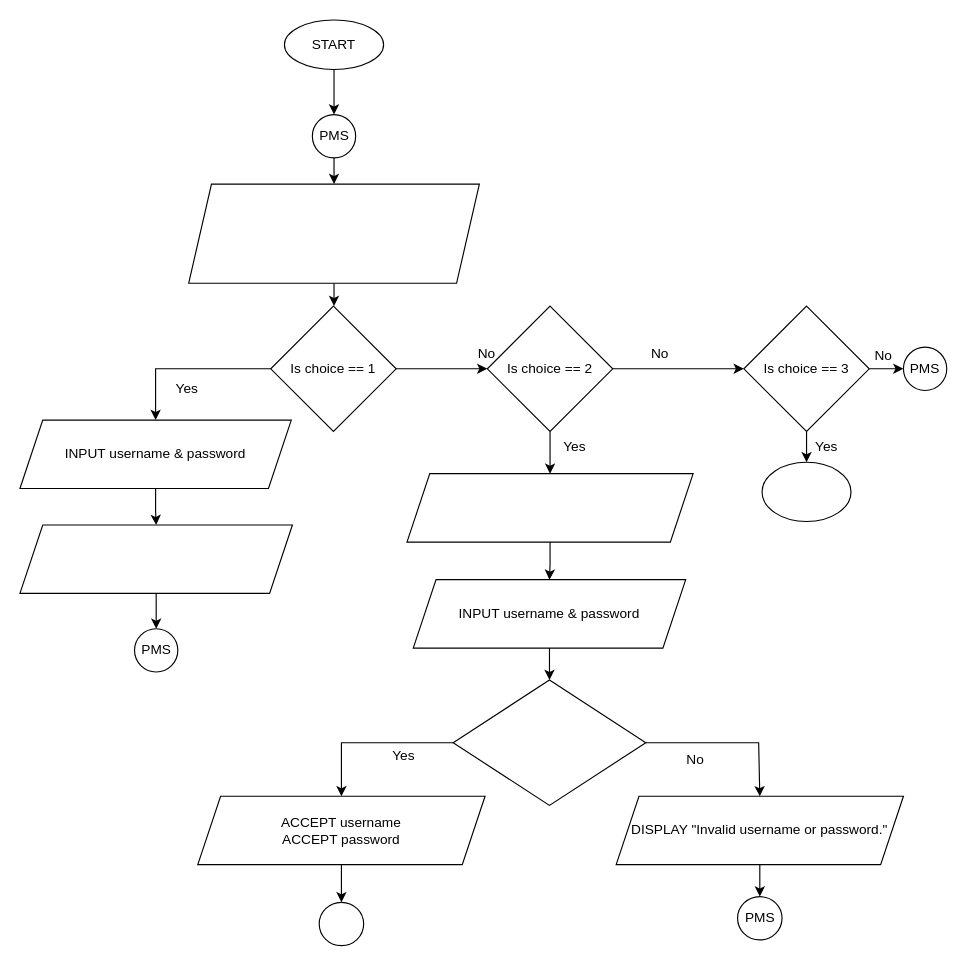
Some shapes in this 967 by 966 pixel diagram are drawn without their labels. Here are the shapes that lost their labels. From the top down, the box of each, then its label:
(188, 183, 479, 283): DISPLAY "Productivity Management System 1. Create Account 2. Login 3. Exit "
(406, 473, 693, 542): DISPLAY "Enter your username: Enter your password:"
(761, 461, 851, 522): BREAK
(19, 524, 292, 593): SAVE to Database
(452, 679, 646, 805): Is username == username password == password
(318, 901, 364, 946): MM
